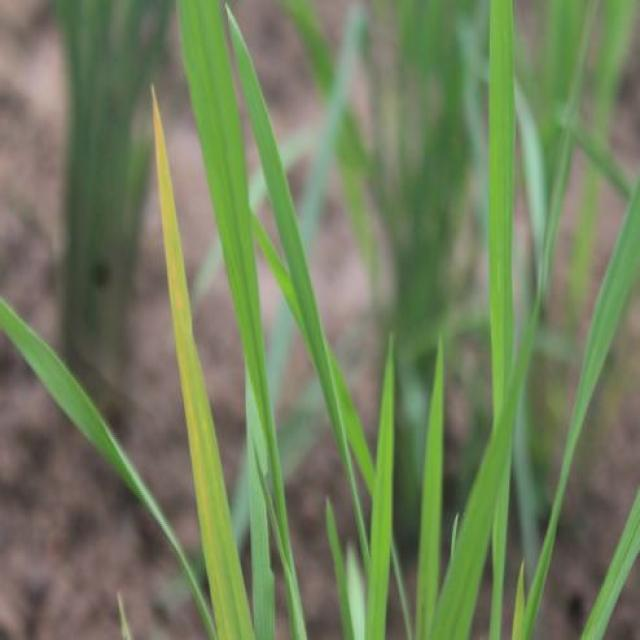Tungro: (128, 70, 252, 640)
